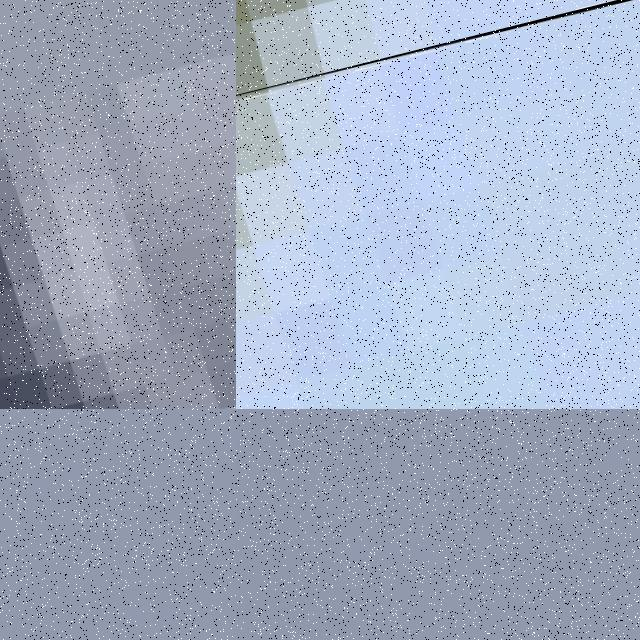drone: (236, 0, 640, 409), (0, 0, 236, 409)
